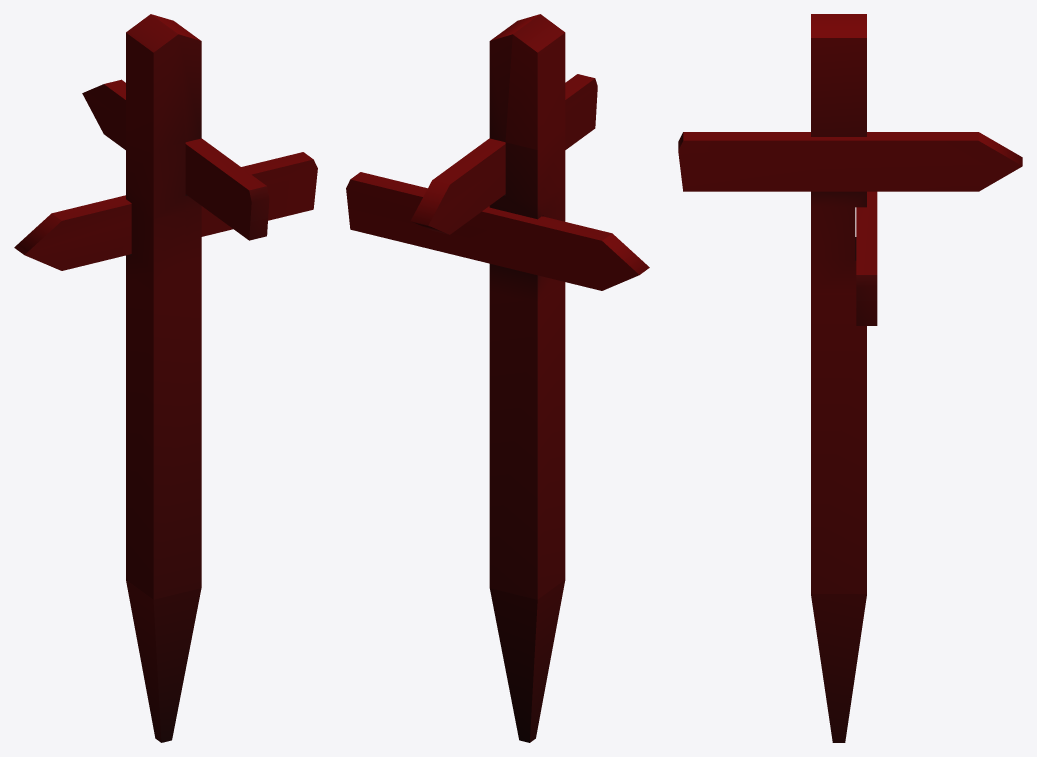
The model's file is WoodenSignPost001.glb.
3 renders of one model, left to right at view 1: azimuth 30°, elevation 25°; view 2: azimuth 150°, elevation 25°; view 3: azimuth 270°, elevation 25°, orthographic.
Parts seen in each view (by area): view 1: WoodenSignPost001; view 2: WoodenSignPost001; view 3: WoodenSignPost001.
Part boxes in pixels (x1,y1,x2,y2): WoodenSignPost001: (14, 14, 317, 742); WoodenSignPost001: (346, 14, 649, 742); WoodenSignPost001: (678, 14, 1022, 742).
Bounding box in the file's own units: 6.95 × 16.17 × 6.95.
